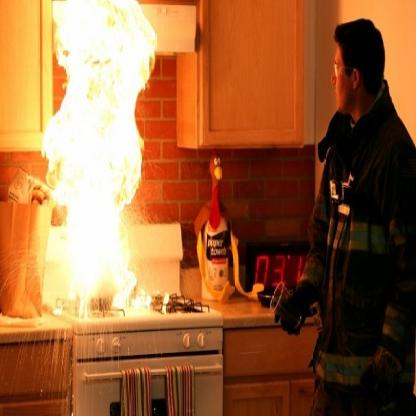fire: (44, 0, 161, 322)
